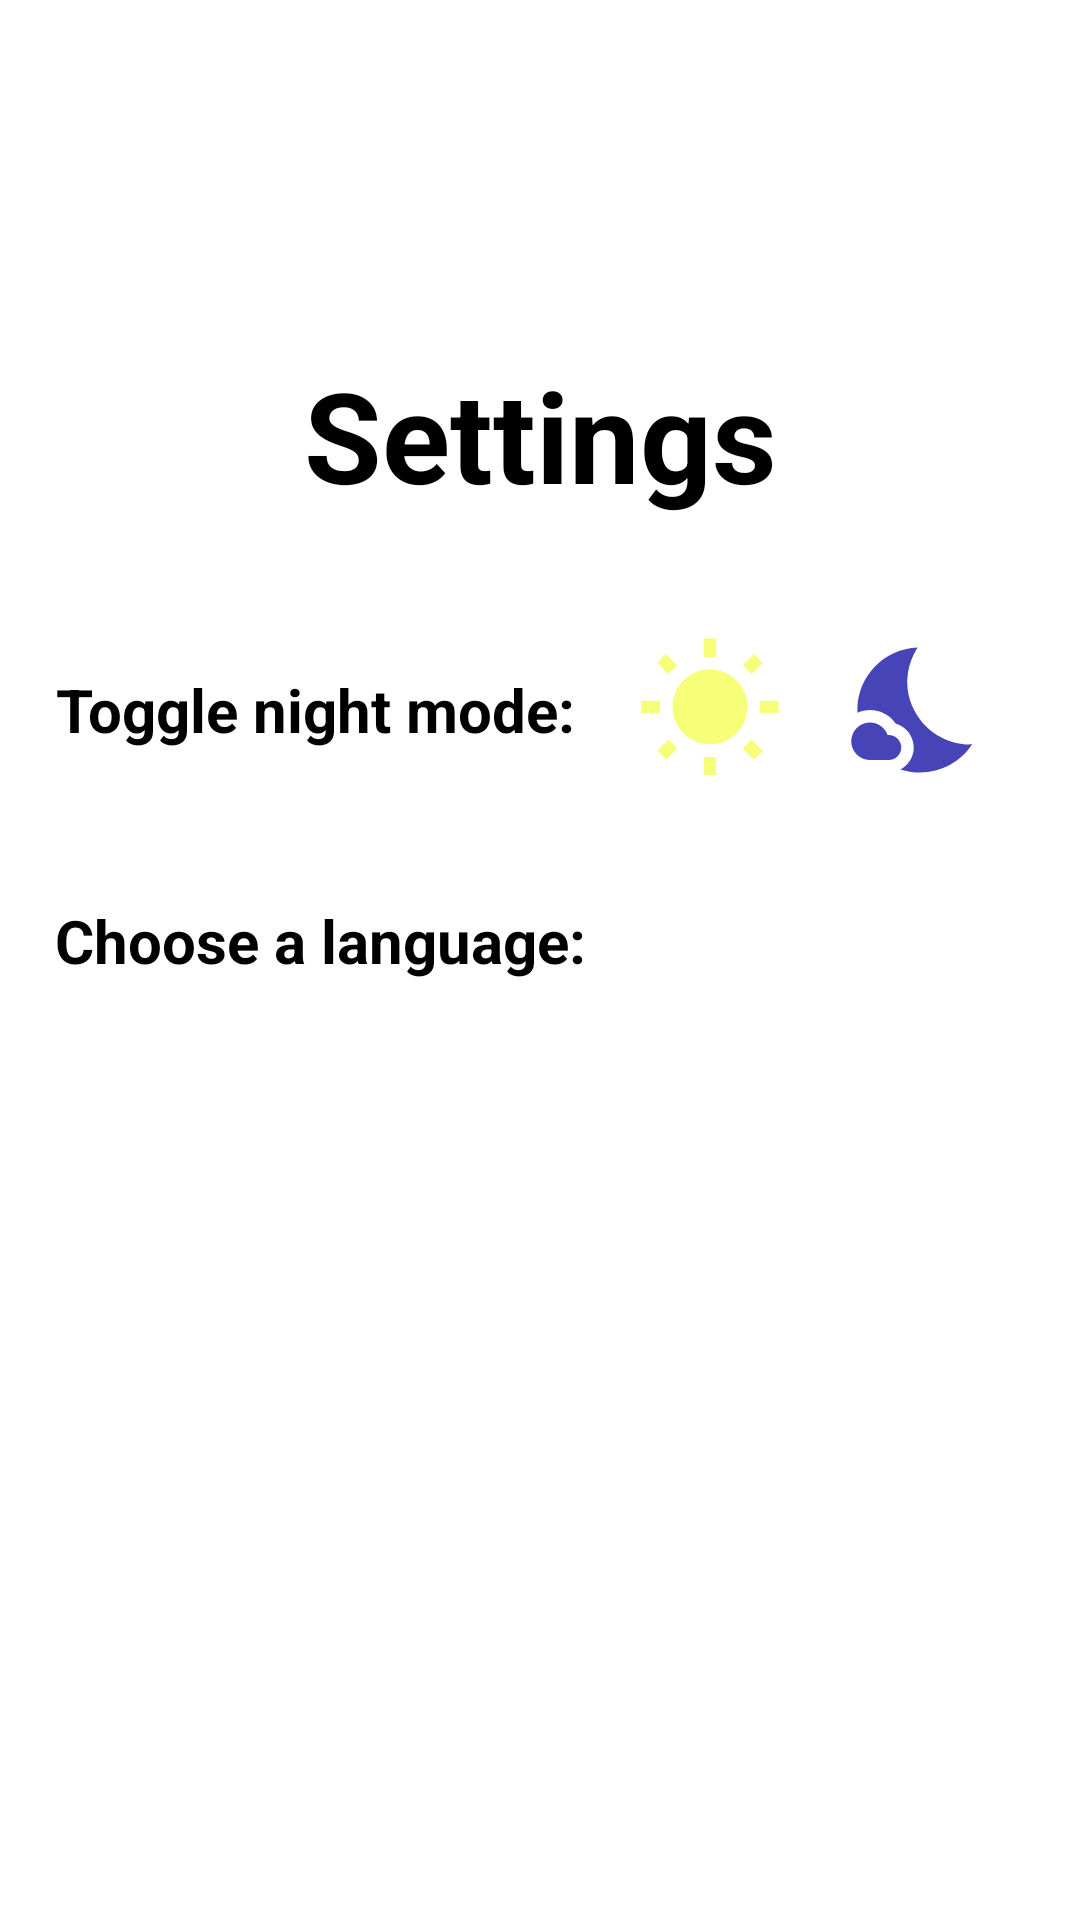

Named icons in this screenshot (1080x1920) and their centers, point (x, y):
moon: point (911, 710)
sun: point (710, 707)
